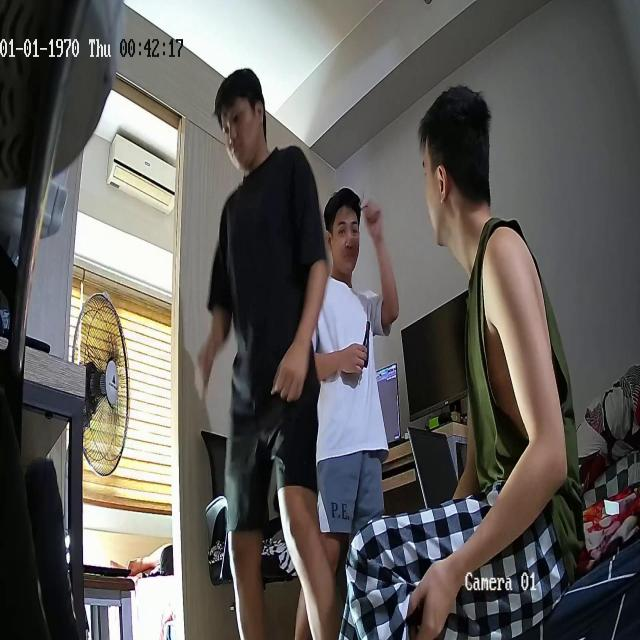scissor: (362, 299, 372, 369)
